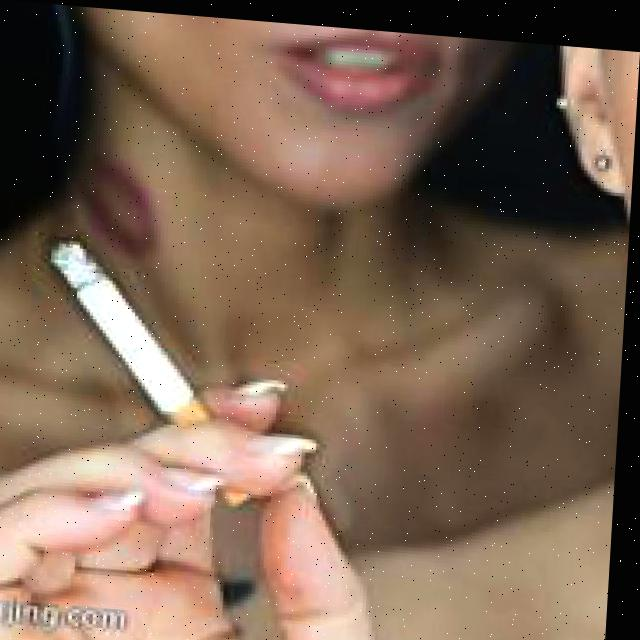cigarette: (44, 235, 271, 500)
